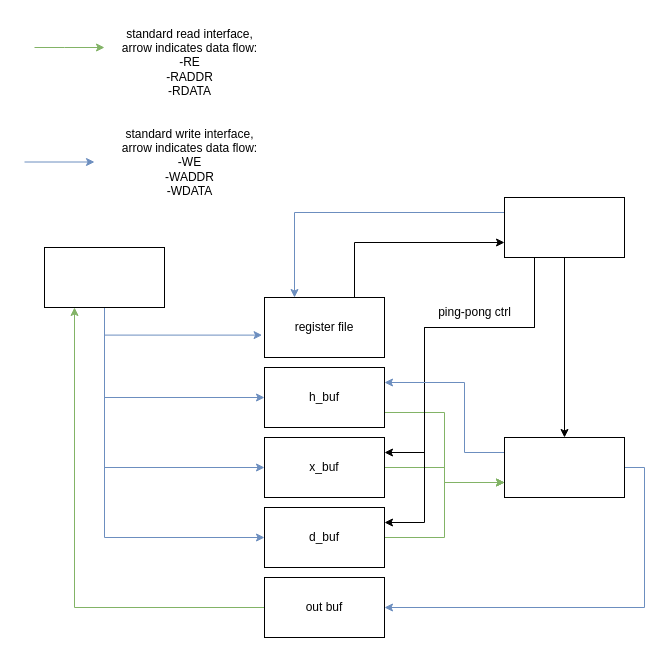
This 670x655 diagram has some shape labels left out. The shapes that lost their labels are listed below. From the top down, each one's centre as x and y in pixels, then its label:
[564,227]: control logic
[104,277]: memory control
[564,467]: datapath
